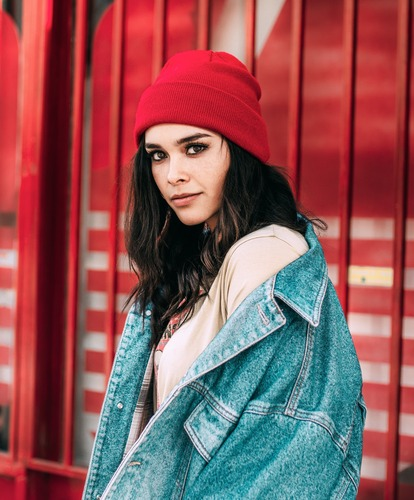without_mask: (144, 125, 227, 223)
